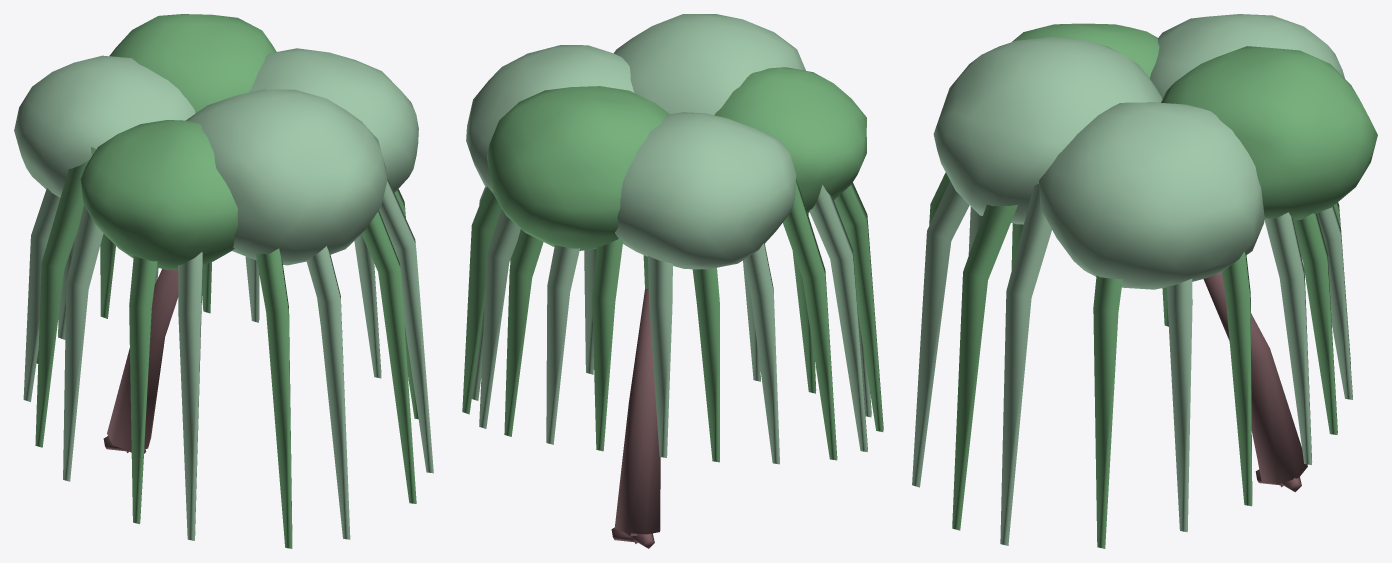
Rendered from willow_b2.glb.
3 renders of one model, left to right at view 1: azimuth 30°, elevation 25°; view 2: azimuth 150°, elevation 25°; view 3: azimuth 270°, elevation 25°, orthographic. The views are drawn at different scales.
Parts seen in each view (by area): view 1: willow_b2; view 2: willow_b2; view 3: willow_b2.
Part boxes in pixels (x1,y1,x2,y2): willow_b2: (14, 14, 433, 548); willow_b2: (462, 14, 883, 548); willow_b2: (912, 14, 1377, 548).
Size of what is drawn, in the model's own units: 9.99 by 11 by 10.15.
